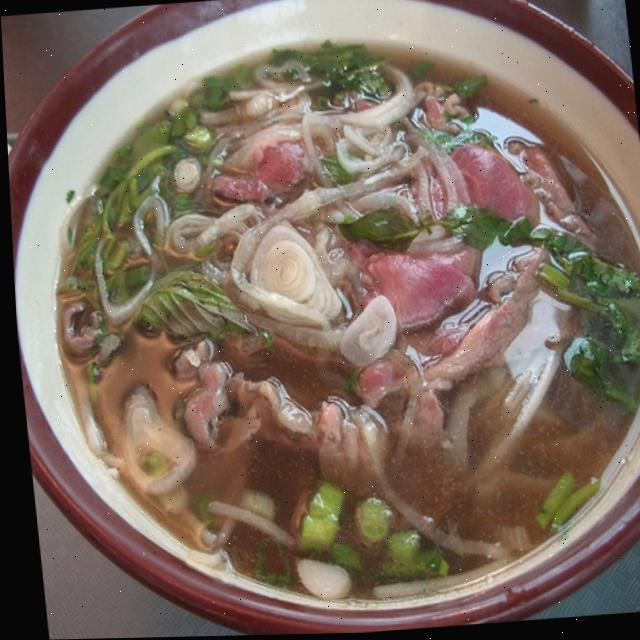面条主食: (58, 17, 640, 611)
